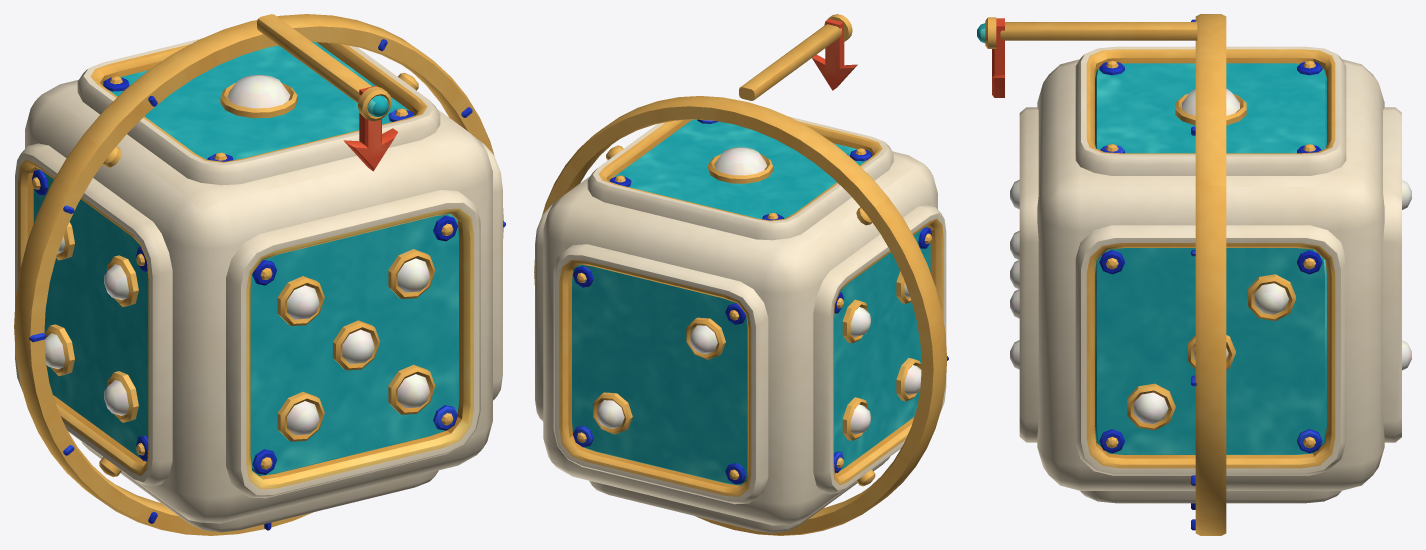
File: CustomDice_v004.fbx
3 views of the same model, side by side, from view 1: azimuth 30°, elevation 25°; view 2: azimuth 150°, elevation 25°; view 3: azimuth 270°, elevation 25° (orthographic). The views are drawn at different scales.
Parts seen in each view (by area): view 1: CustomDice_Body, CustomDice_SelectorRing, CustomDice_Pointer; view 2: CustomDice_Body, CustomDice_SelectorRing, CustomDice_Pointer; view 3: CustomDice_Body, CustomDice_SelectorRing, CustomDice_Pointer.
Part boxes in pixels (x1,y1,x2,y2): CustomDice_Body: [15, 38, 502, 532]; CustomDice_SelectorRing: [14, 14, 505, 535]; CustomDice_Pointer: [257, 14, 397, 171]; CustomDice_Body: [535, 116, 946, 532]; CustomDice_SelectorRing: [534, 96, 948, 535]; CustomDice_Pointer: [739, 14, 857, 100]; CustomDice_Body: [1010, 46, 1411, 503]; CustomDice_SelectorRing: [1191, 14, 1226, 535]; CustomDice_Pointer: [977, 17, 1197, 97].
Bounding box in the file's own units: 1.23 × 1.28 × 1.02.
1 material, 1 textured.
